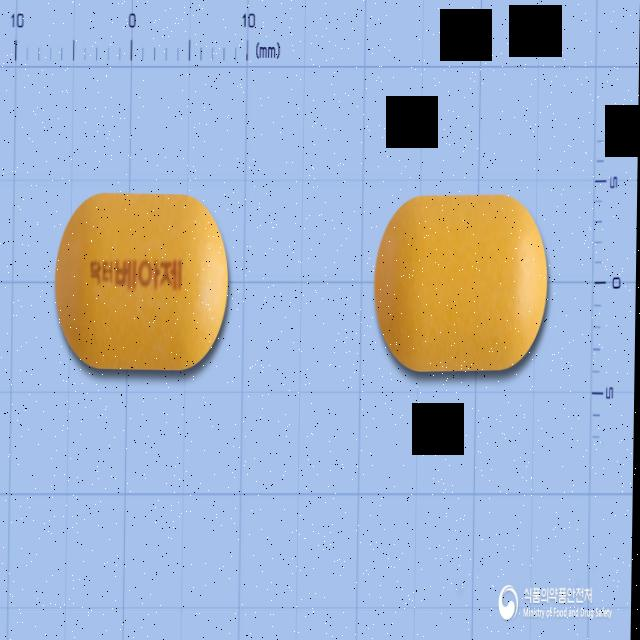Cipoxcin: (54, 193, 230, 372), (373, 195, 550, 372)
